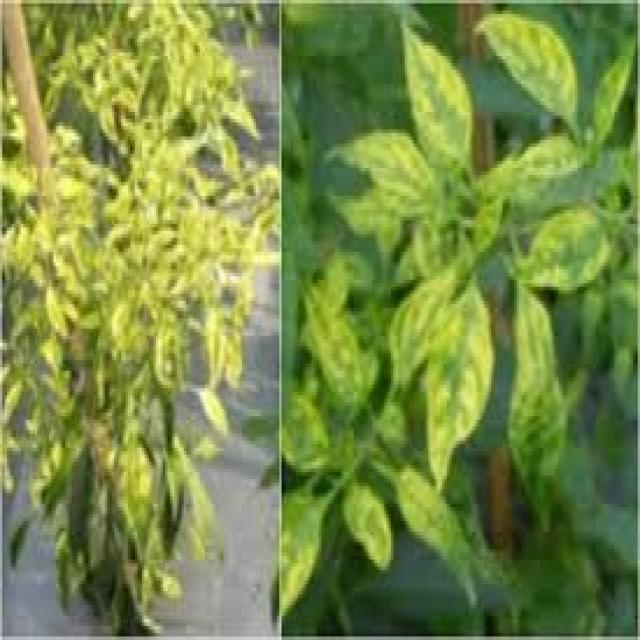virus_kuning: (422, 280, 500, 493), (480, 1, 587, 126), (399, 24, 476, 170), (524, 199, 616, 291)
